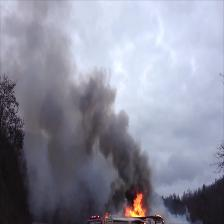fire: (134, 197, 144, 215)
smoke: (73, 85, 145, 187), (40, 8, 67, 103)
